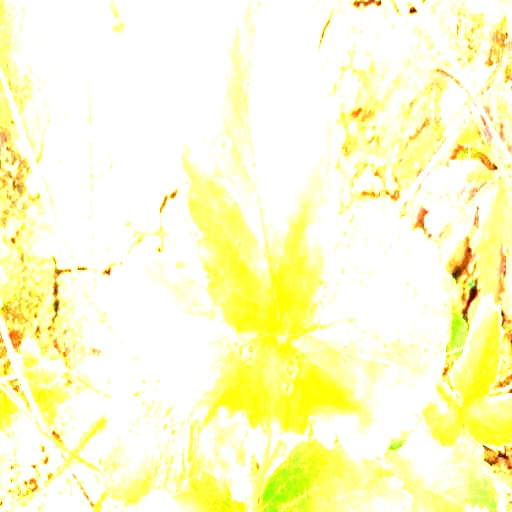Leaf Spot: (177, 0, 343, 335), (270, 202, 453, 459), (116, 249, 282, 435), (101, 353, 247, 507)
